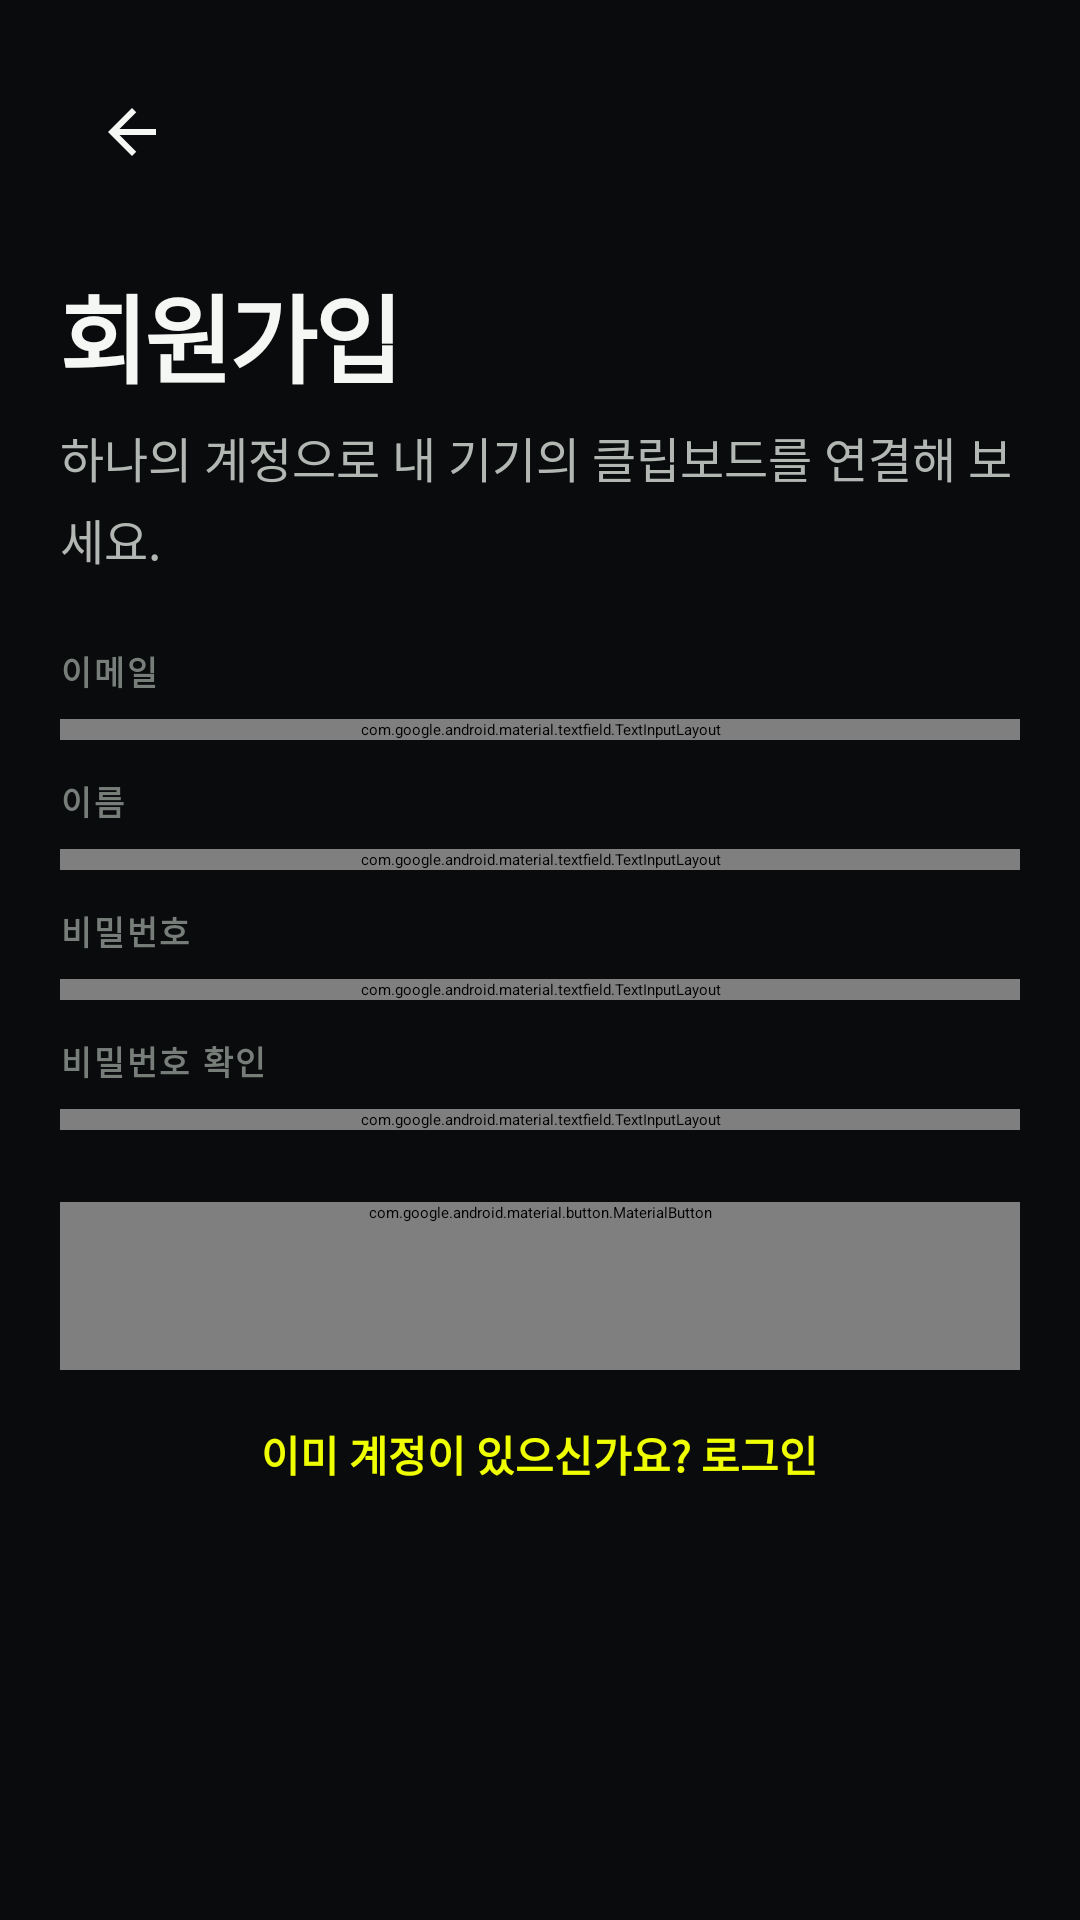

Icon bounding boxes for this 1080w x 1920h phone screenshot, format region(x1, y1, x2, y2):
뒤로가기: region(108, 108, 156, 156)
